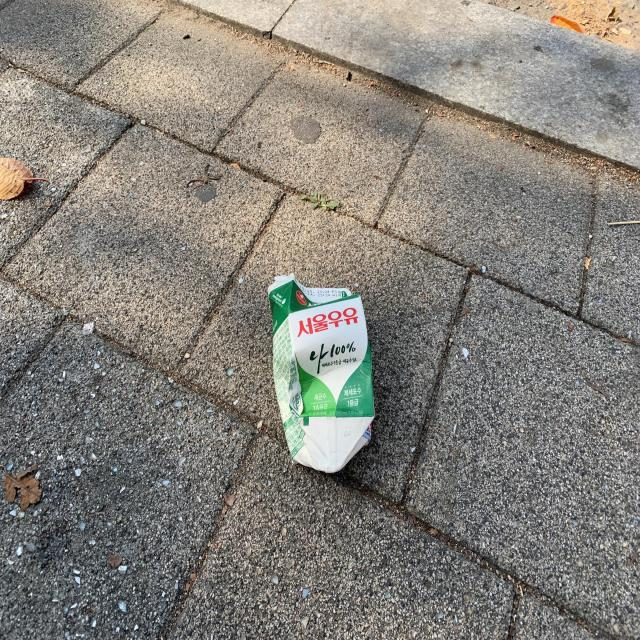paperpack: (268, 275, 374, 473)
